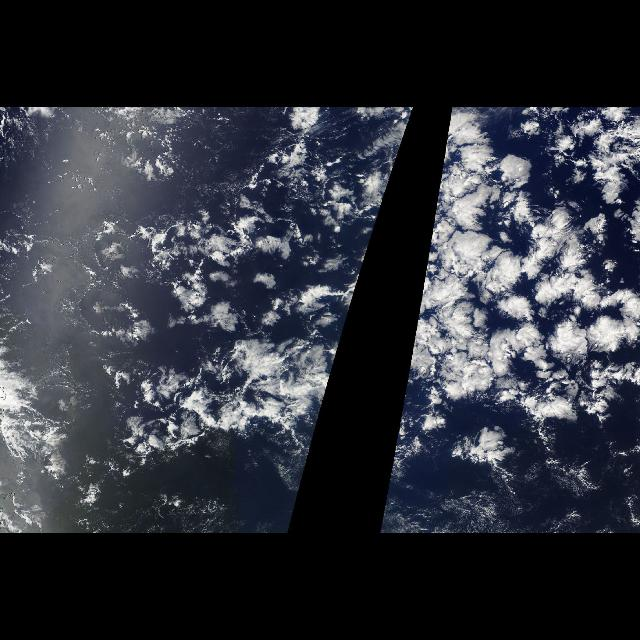Flower: (398, 120, 640, 440), (334, 120, 412, 362)
Gravel: (70, 214, 288, 350)
